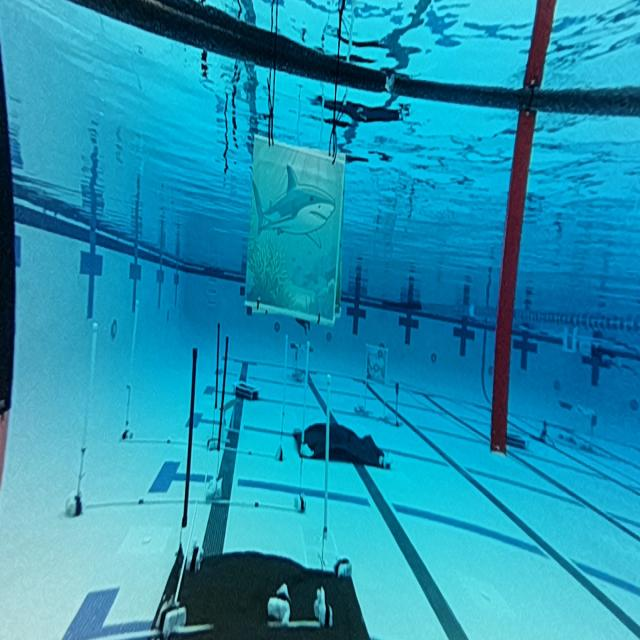round_nose: (245, 138, 352, 331)
